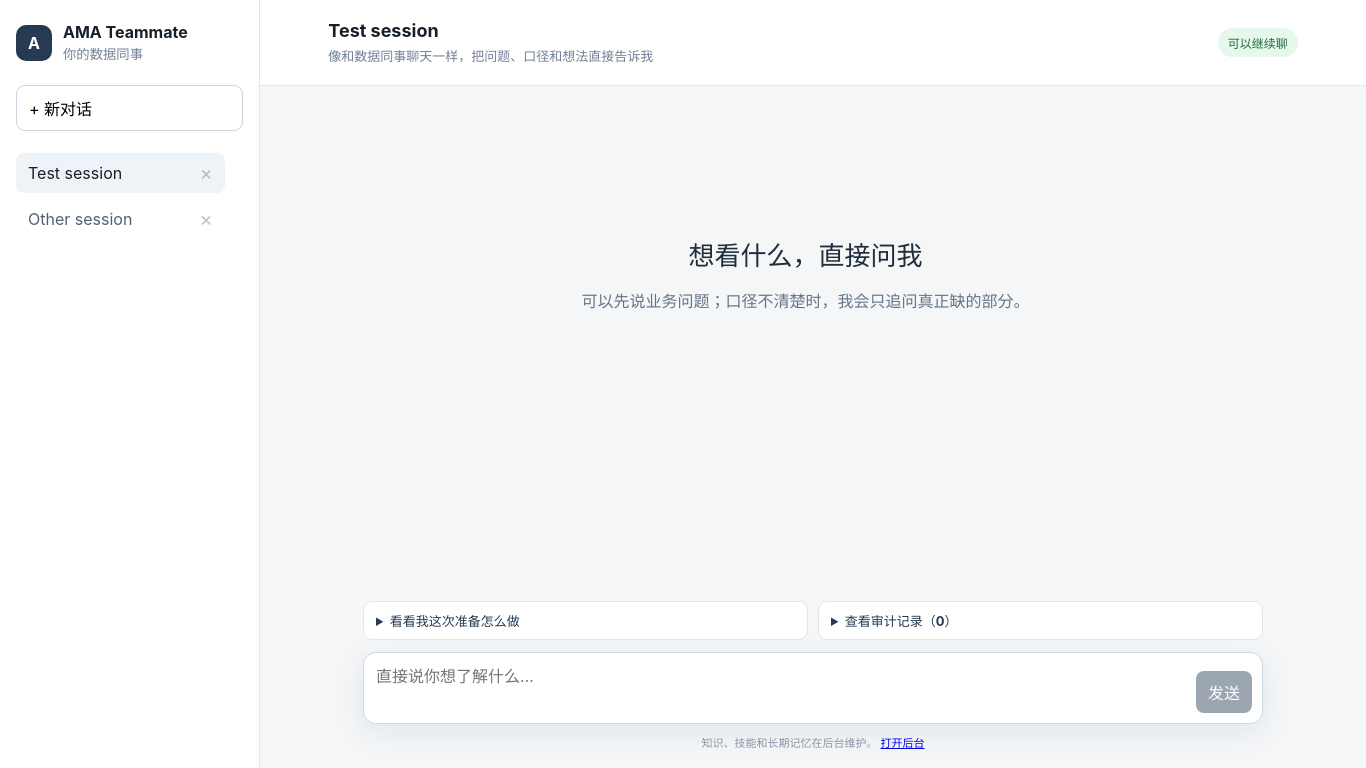
Scenario: Agent workspace › deletes a session and selects the next conversation
Expected: the heading "Test session" is shown, [328, 20, 439, 41]
Click the 1st button "×". click: (206, 173)
box: [191, 158, 221, 188]
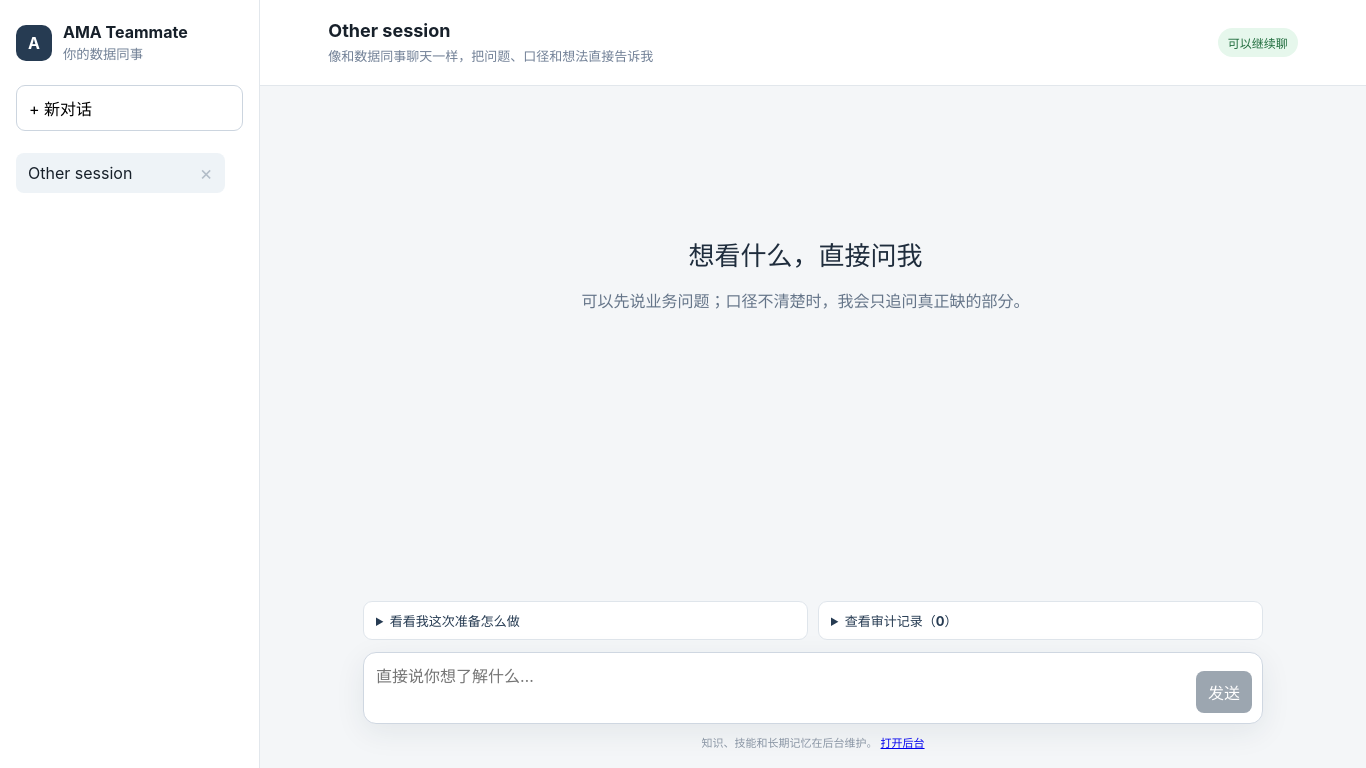
Expected: the heading "Other session" is shown, [328, 20, 450, 41]
Expected: the button "Test session" is gone
